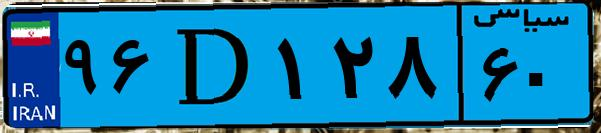0: (525, 38, 570, 115)
1: (270, 28, 330, 110)
2: (330, 28, 385, 110)
6: (475, 38, 525, 113), (110, 28, 158, 98)
8: (385, 28, 445, 110)
9: (57, 26, 110, 100)
D: (158, 12, 270, 120)
